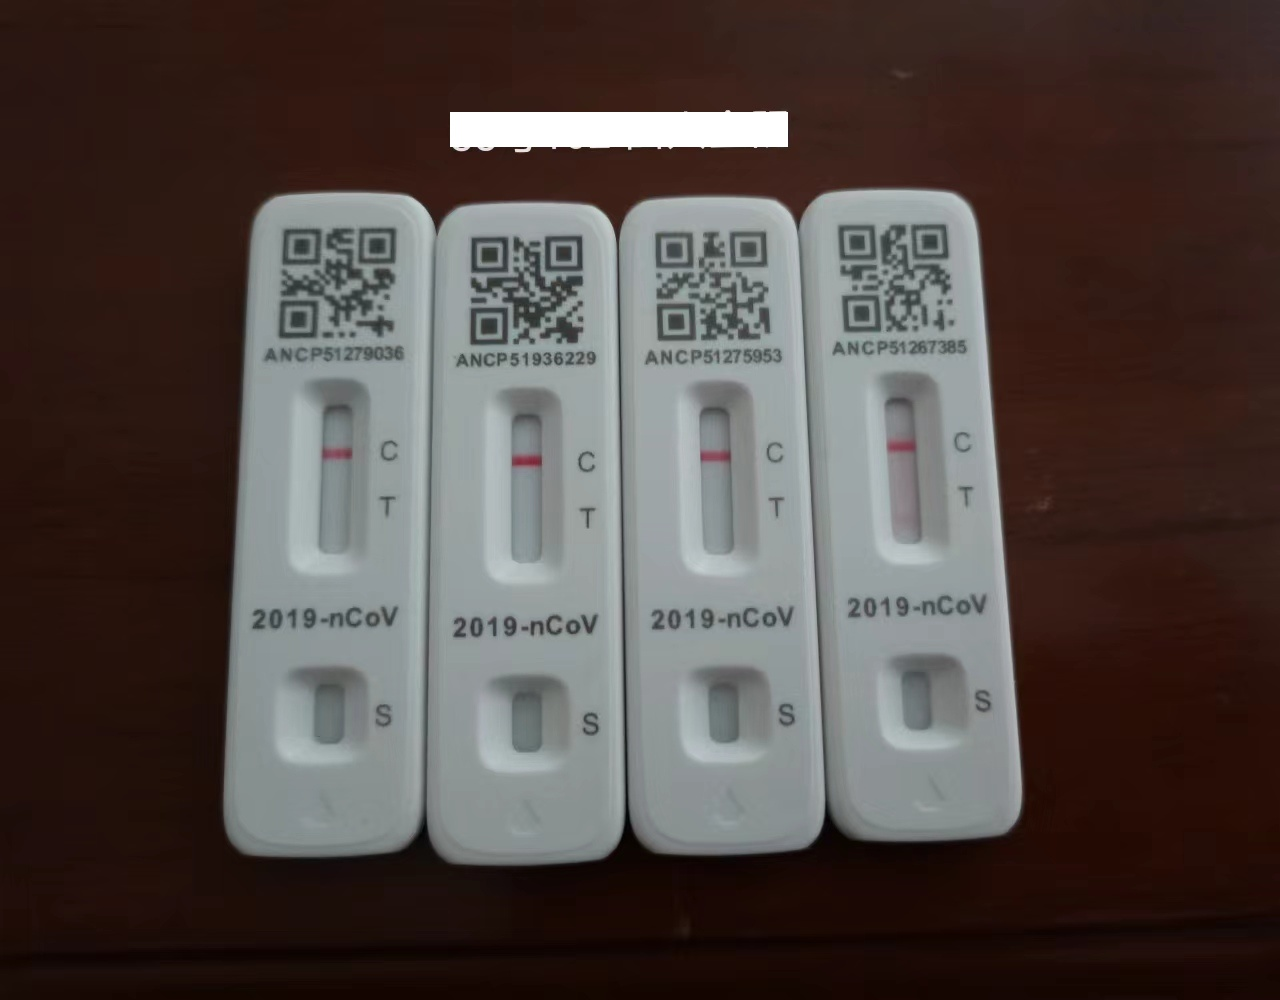negative: (679, 380, 761, 576), (487, 385, 565, 584), (870, 373, 946, 556), (300, 383, 370, 572)
